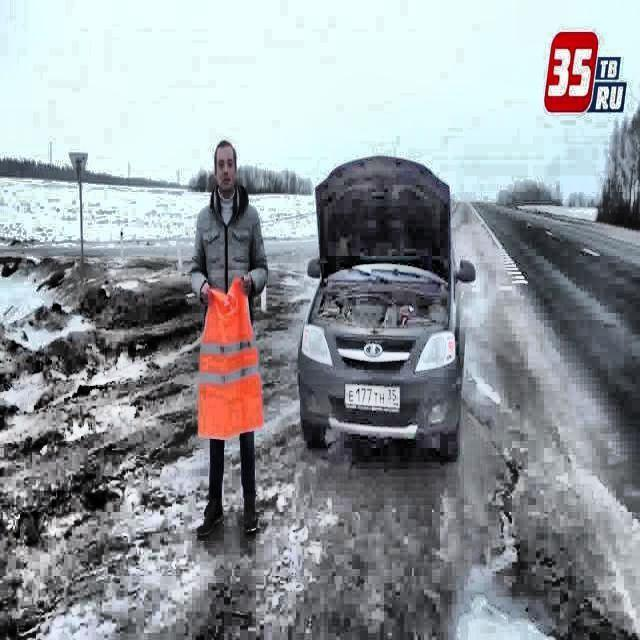safety_jacket: (198, 273, 264, 443)
